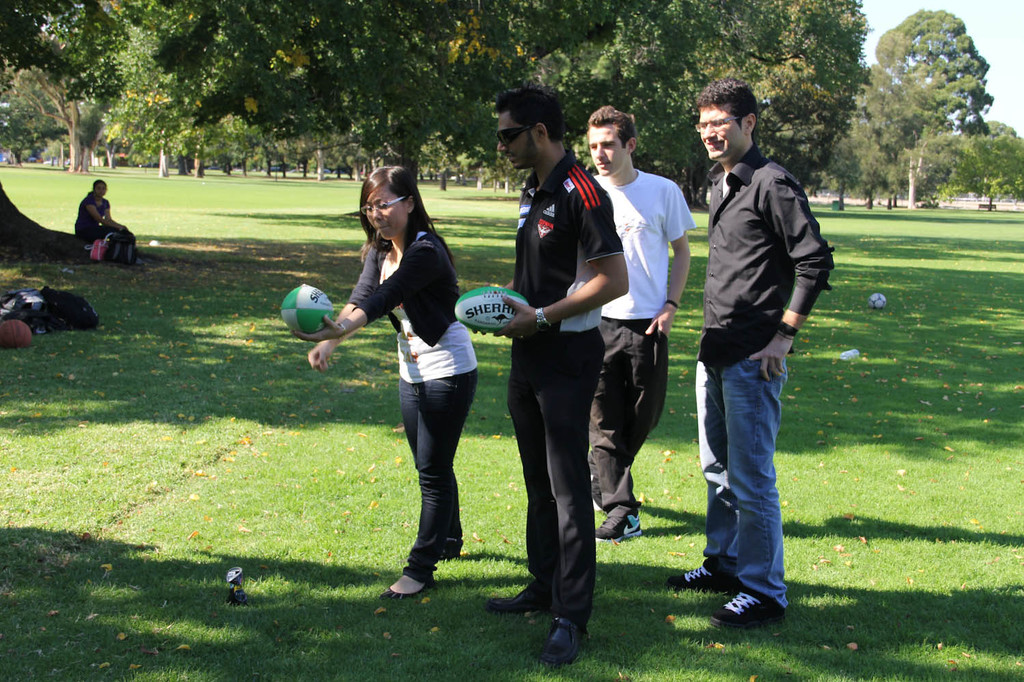Ball: (453, 286, 533, 333), (281, 287, 332, 340), (0, 322, 32, 347), (868, 294, 885, 307)
